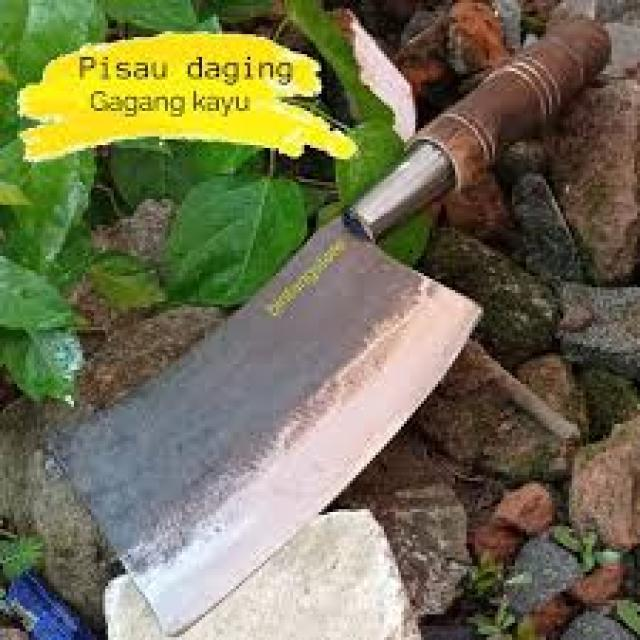Knife: (51, 17, 606, 631)
